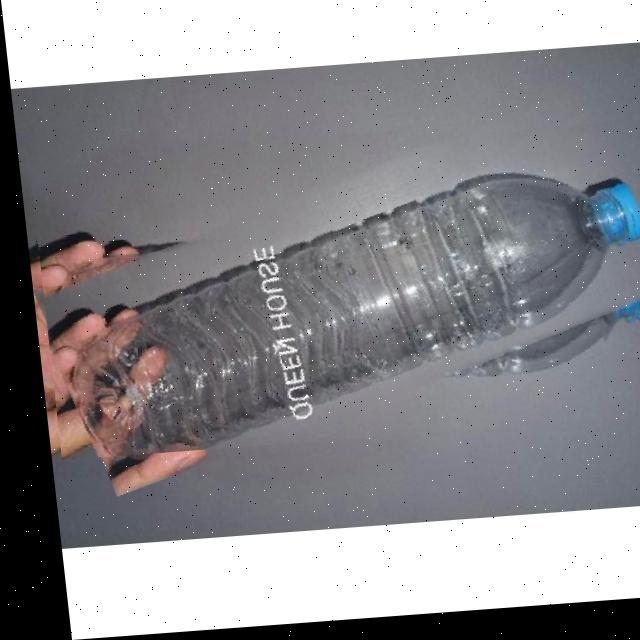plasticbottle: (24, 128, 640, 460)
plasticbottlecap: (581, 243, 640, 375)
